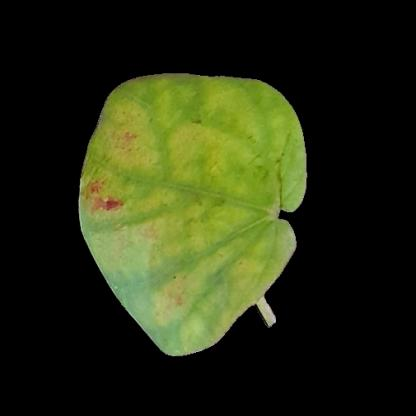curl_stage1: (128, 206, 265, 306), (111, 112, 239, 197), (243, 92, 288, 206), (157, 311, 233, 347)
